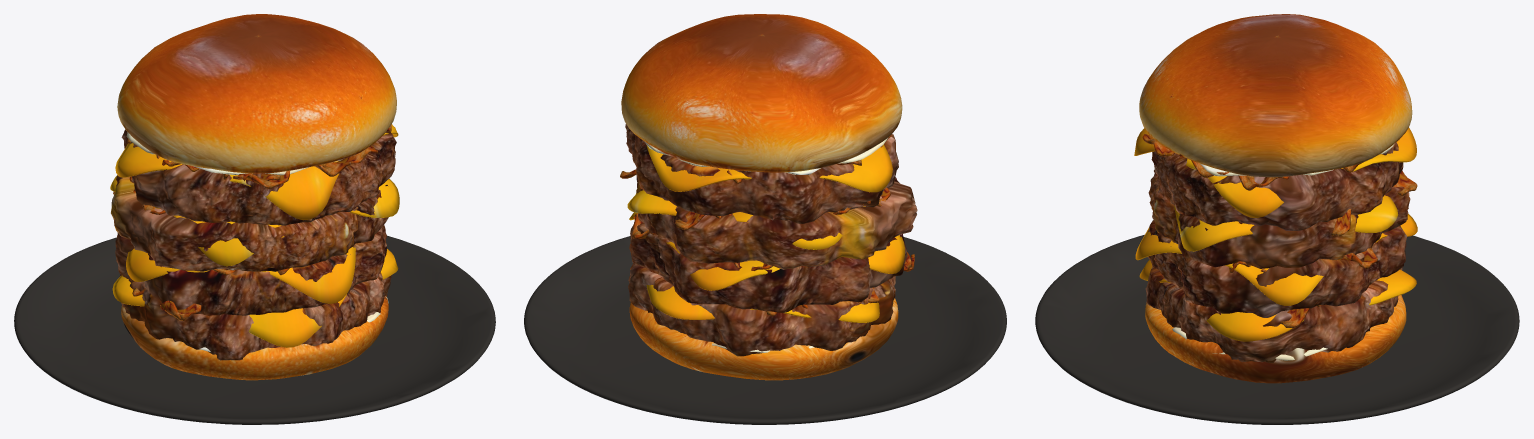
Rendered from hamburguer-4-carnes-ar.glb.
3 renders of one model, left to right at view 1: azimuth 30°, elevation 25°; view 2: azimuth 150°, elevation 25°; view 3: azimuth 270°, elevation 25°, orthographic.
Parts seen in each view (by area): view 1: prato, coroa, carne2, cheddar, carne3, carne1, carne0, base, bacon, creme; view 2: prato, coroa, carne2, carne3, carne1, carne0, cheddar, base, bacon, creme; view 3: prato, coroa, cheddar, carne3, carne1, carne0, carne2, base, bacon, creme.
Part boxes in pixels (box(x1,y1,x2,y2)): prato: box(14, 235, 495, 424); coroa: box(117, 14, 396, 173); carne2: box(111, 175, 388, 271); cheddar: box(110, 124, 399, 347); carne3: box(121, 129, 396, 225); carne1: box(115, 225, 386, 315); carne0: box(119, 272, 391, 360); base: box(121, 295, 388, 380); bacon: box(127, 124, 391, 320); creme: box(126, 118, 394, 352); prato: box(524, 236, 1006, 424); coroa: box(621, 14, 902, 172); carne2: box(636, 174, 917, 269); carne3: box(625, 124, 898, 223); carne1: box(629, 222, 907, 312); carne0: box(628, 263, 895, 356); cheddar: box(627, 144, 904, 322); base: box(629, 298, 898, 380); bacon: box(620, 135, 914, 316); creme: box(644, 138, 887, 352); prato: box(1035, 234, 1519, 424); coroa: box(1139, 14, 1412, 177); cheddar: box(1134, 127, 1417, 341); carne3: box(1151, 139, 1403, 230); carne1: box(1147, 220, 1406, 317); carne0: box(1145, 267, 1402, 362); carne2: box(1148, 170, 1410, 268); base: box(1145, 295, 1406, 383); bacon: box(1142, 134, 1417, 327); creme: box(1172, 143, 1394, 360).
Bounding box in the file's own units: 0.2182 × 0.1566 × 0.2181.
Materials: 10 (9 with a texture image).
